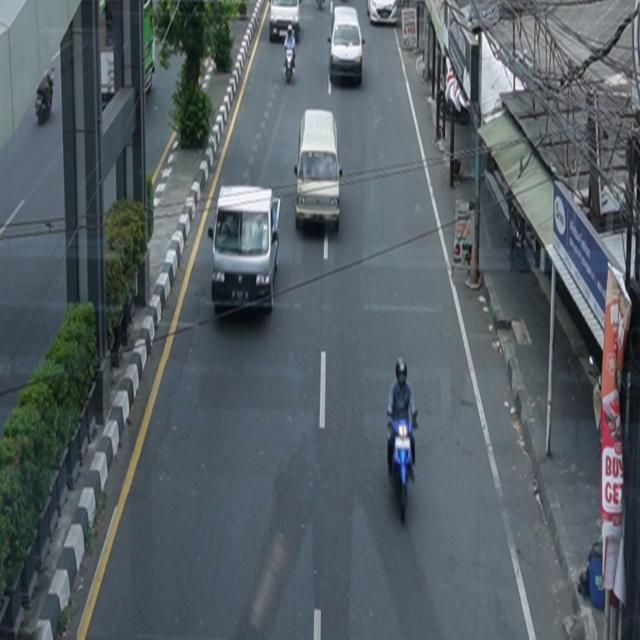car: (208, 185, 282, 316), (294, 109, 344, 233), (328, 6, 366, 87), (270, 1, 303, 44), (367, 1, 398, 26)
